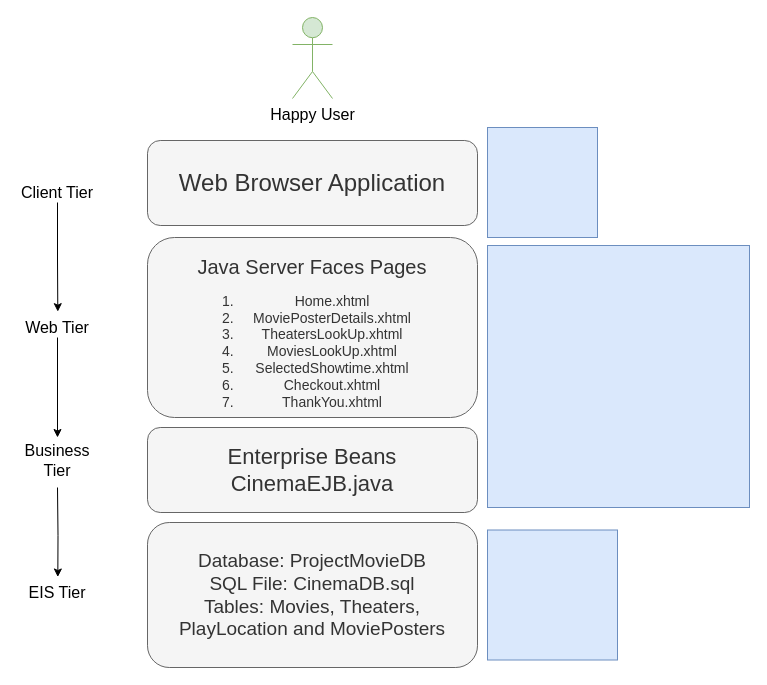
The diagram is 767 pixels wide and 685 high, and some of its shapes have lost their labels. Here are the shapes that lost their labels. From the top down, the centre of each, then its label:
At (542,182): "Client Machine".
At (618,376): "Java EE Server".
At (552,594): "Database Server".
